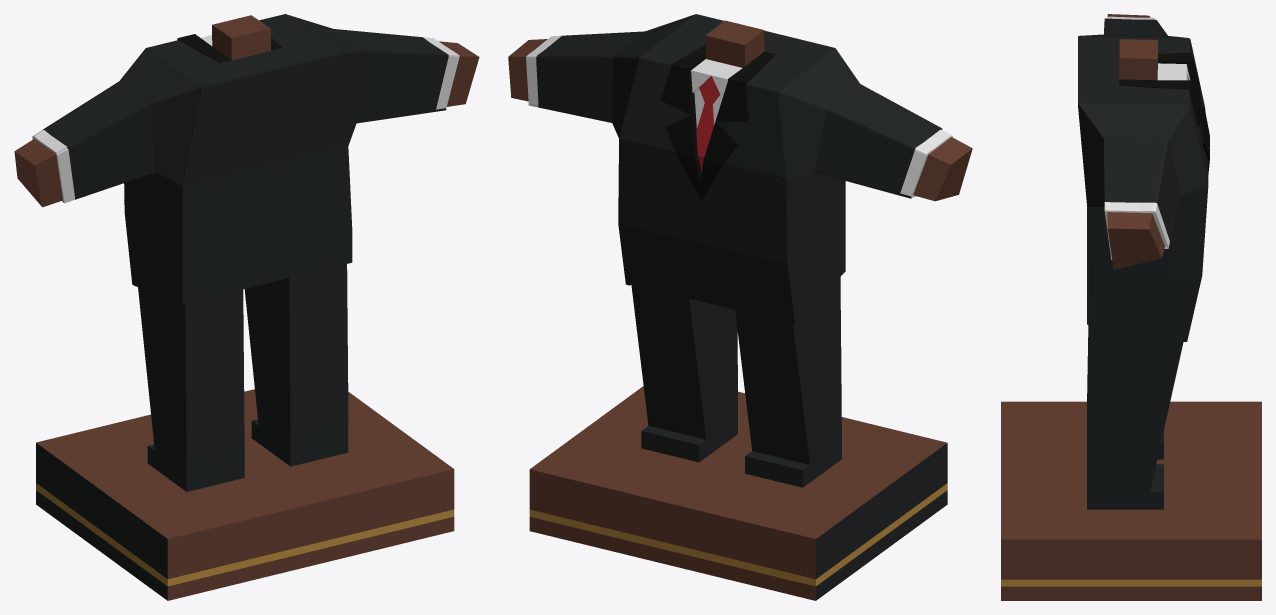
File: stealth_the_fit_fin.fbx
3 views of the same model, side by side, from view 1: azimuth 30°, elevation 25°; view 2: azimuth 150°, elevation 25°; view 3: azimuth 270°, elevation 25° (orthographic).
Parts seen in each view (by area): view 1: mannequin; view 2: mannequin; view 3: mannequin.
Boxes of the visible parts, bbox=[...] form: mannequin: bbox=[14, 14, 479, 600]; mannequin: bbox=[508, 14, 972, 600]; mannequin: bbox=[1001, 14, 1261, 600].
Size of the model in its own units: 245 by 258 by 126.
